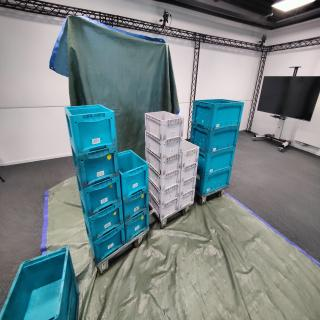Box8G: (145, 112, 187, 144), (146, 148, 184, 179), (145, 133, 184, 161), (150, 165, 182, 194), (150, 192, 182, 221), (150, 179, 182, 207), (183, 140, 201, 170), (182, 163, 199, 185), (180, 191, 198, 211), (180, 178, 197, 198)
BoxB4: (191, 100, 249, 132), (191, 127, 247, 158), (196, 149, 238, 177), (195, 171, 234, 199)
BoxB8: (1, 249, 75, 320), (64, 106, 120, 156), (71, 152, 120, 193), (79, 201, 126, 242), (117, 151, 151, 202), (85, 227, 128, 266), (76, 181, 123, 210), (121, 190, 155, 225), (124, 212, 154, 246), (71, 274, 82, 320)
